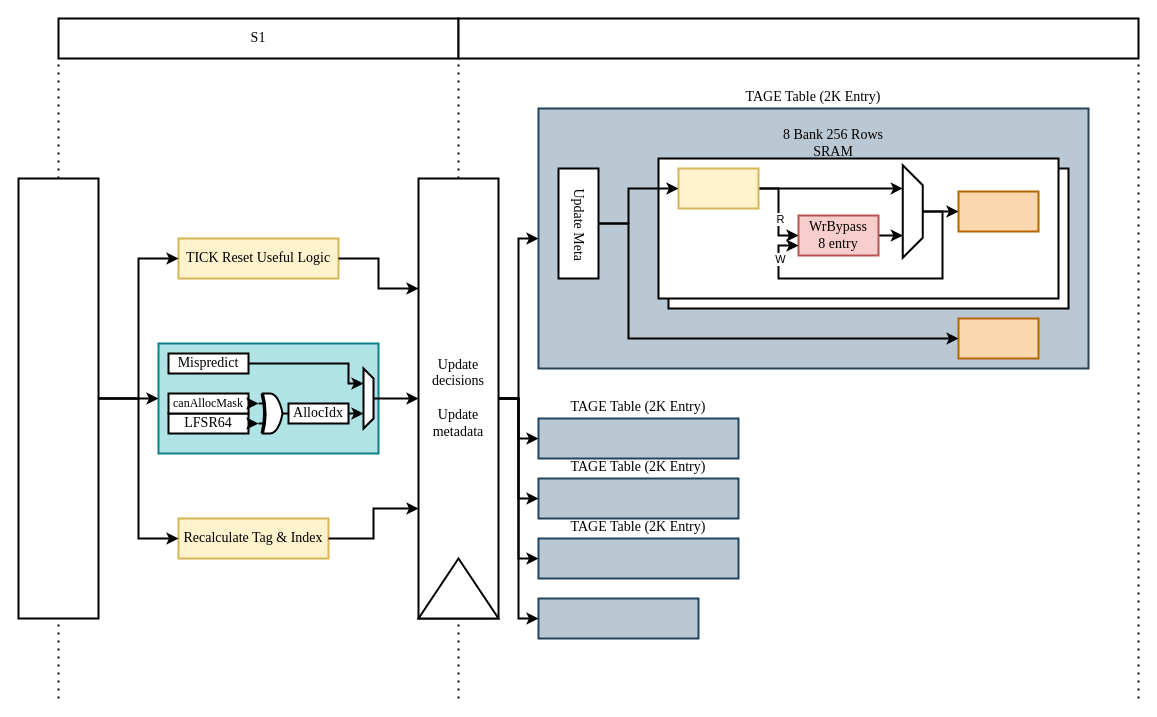
The diagram is 1157 pixels wide and 717 high, and some of its shapes have lost their labels. The box of each missing label's shape, as (x1, y1, x2, y2) in pixels:
Allocate Logic (Use predict time meta): (157, 342, 379, 454)
Base Table (2K Entry): (537, 597, 699, 639)
Per-Bank Update: (677, 167, 759, 209)
S2: (457, 17, 1139, 59)
Tag & Ctr SRAM: (957, 190, 1039, 232)
Update Meta from FTQ on retire: (17, 177, 99, 619)
Useful SRAM: (957, 317, 1039, 359)
